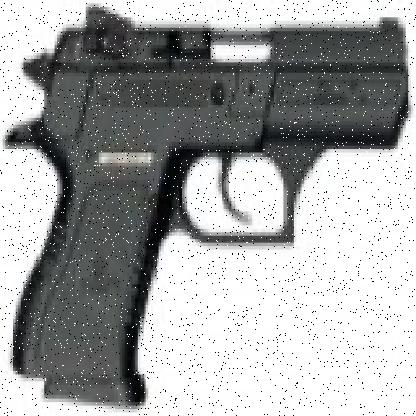pistol: (13, 3, 411, 409)
